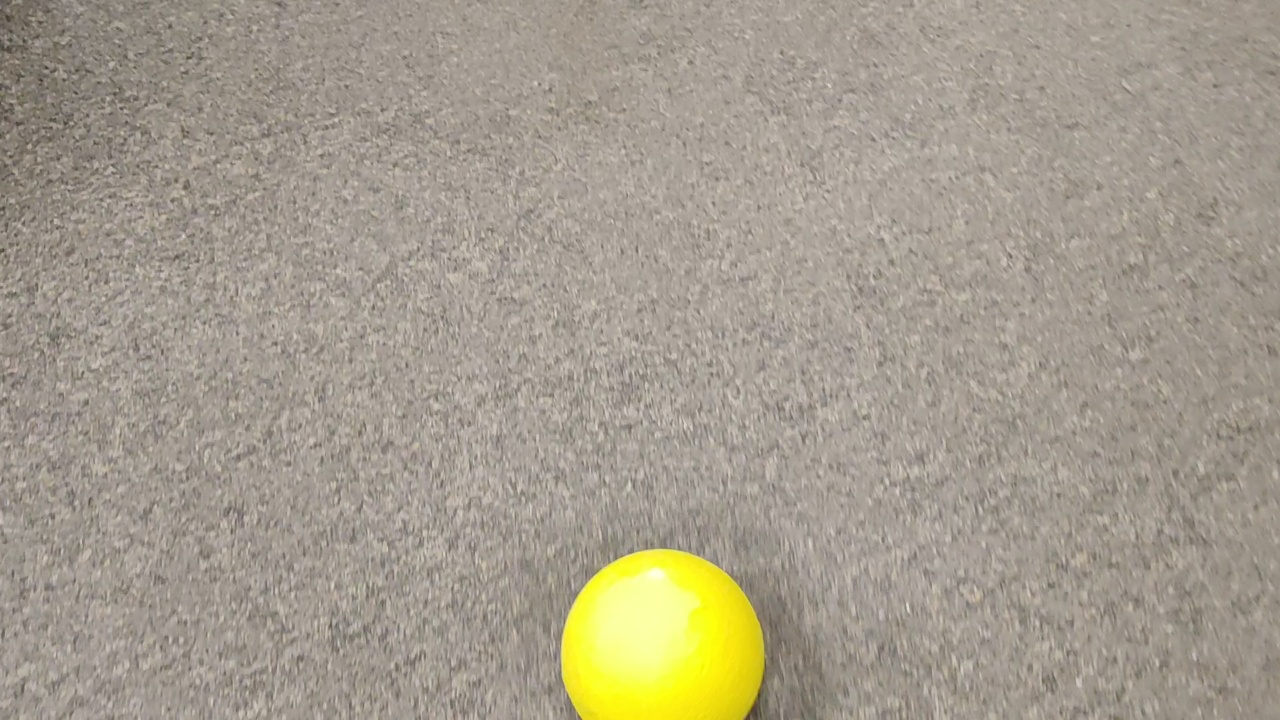Ball: (561, 545, 768, 720)
